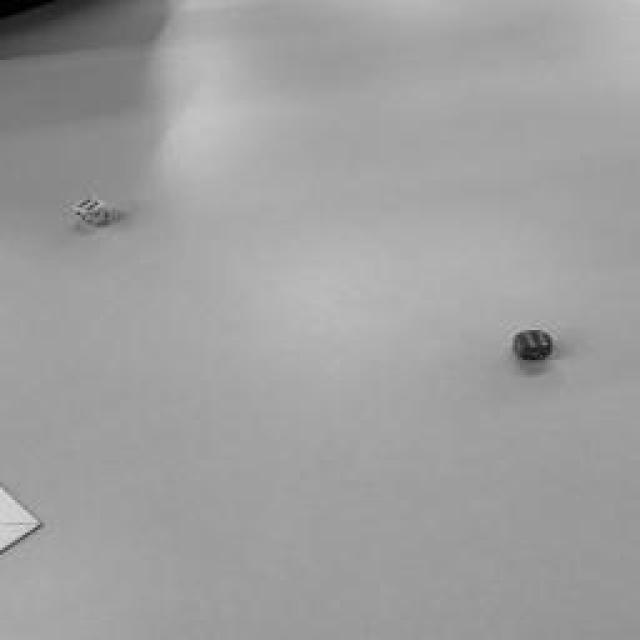dice_6: (521, 331, 551, 349), (76, 198, 104, 212)
